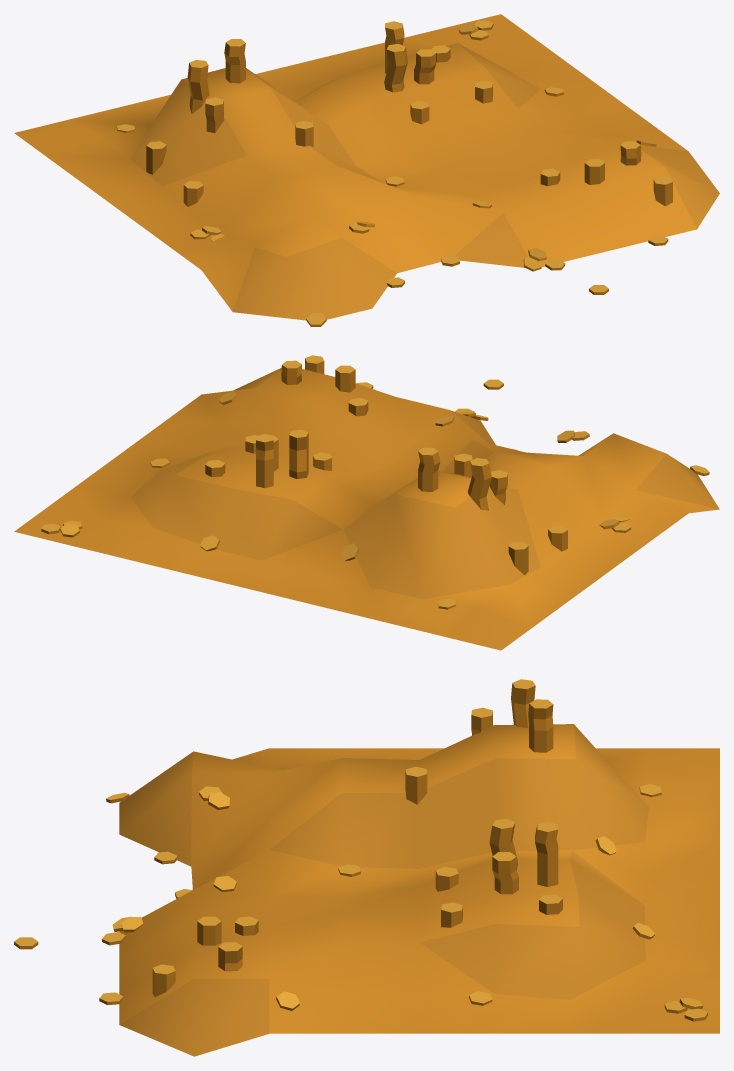
Rendered from ST_Env_Gold_Edge_03.fbx.
3 views of the same model, one above another, from view 1: azimuth 30°, elevation 25°; view 2: azimuth 150°, elevation 25°; view 3: azimuth 270°, elevation 25° (orthographic). The views are drawn at different scales.
Visible parts, largest first — view 1: ST_Env_Gold_Edge_03; view 2: ST_Env_Gold_Edge_03; view 3: ST_Env_Gold_Edge_03.
Boxes of the visible parts, x1,y1,x2,y2 form: ST_Env_Gold_Edge_03: (14, 14, 719, 326); ST_Env_Gold_Edge_03: (14, 355, 719, 650); ST_Env_Gold_Edge_03: (14, 679, 719, 1056).
Bounding box in the file's own units: 5 × 1.26 × 5.22.
